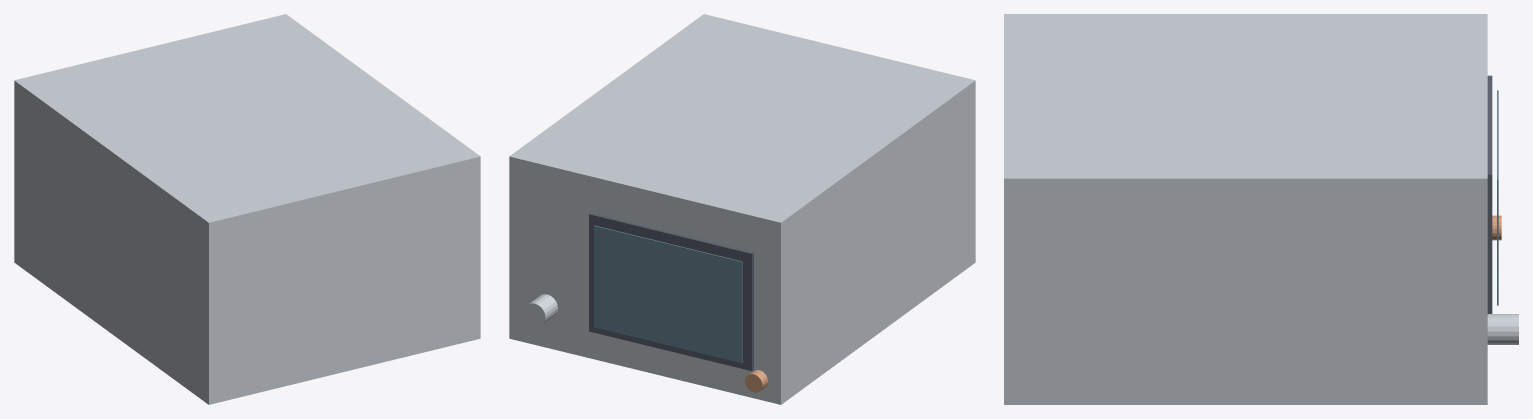
Rendered from santec-tsl570-setup4.glb.
3 views of the same model, side by side, from view 1: azimuth 30°, elevation 25°; view 2: azimuth 150°, elevation 25°; view 3: azimuth 270°, elevation 25° (orthographic). The views are drawn at different scales.
Visible parts, largest first — view 1: silver white laser enclosure; view 2: silver white laser enclosure, screen glass, black touchscreen bezel, silver optical output; view 3: silver white laser enclosure, black touchscreen bezel, silver optical output.
Part boxes in pixels (x1,y1,x2,y2): silver white laser enclosure: (14, 14, 480, 404); silver white laser enclosure: (509, 14, 975, 404); screen glass: (594, 225, 742, 363); black touchscreen bezel: (589, 213, 753, 370); silver optical output: (524, 294, 557, 326); silver white laser enclosure: (1004, 14, 1487, 404); black touchscreen bezel: (1487, 75, 1492, 313); silver optical output: (1487, 314, 1518, 344).
Size of the model in its own units: 0.25 by 0.16 by 0.33.
